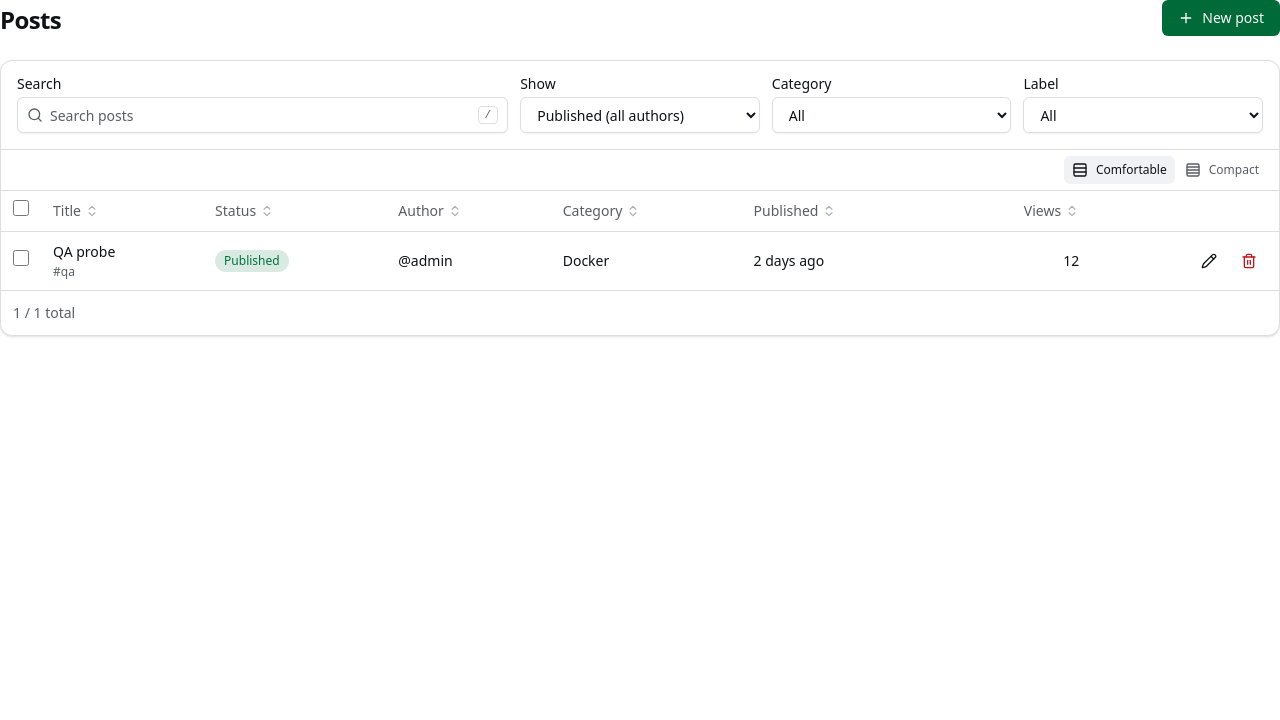
Test: PostsPage › deletes after confirmation
The image size is (1280, 720).
Click the button named "Delete: QA probe". click: x=1249, y=260
box: x1=1231 y1=242 x2=1267 y2=278
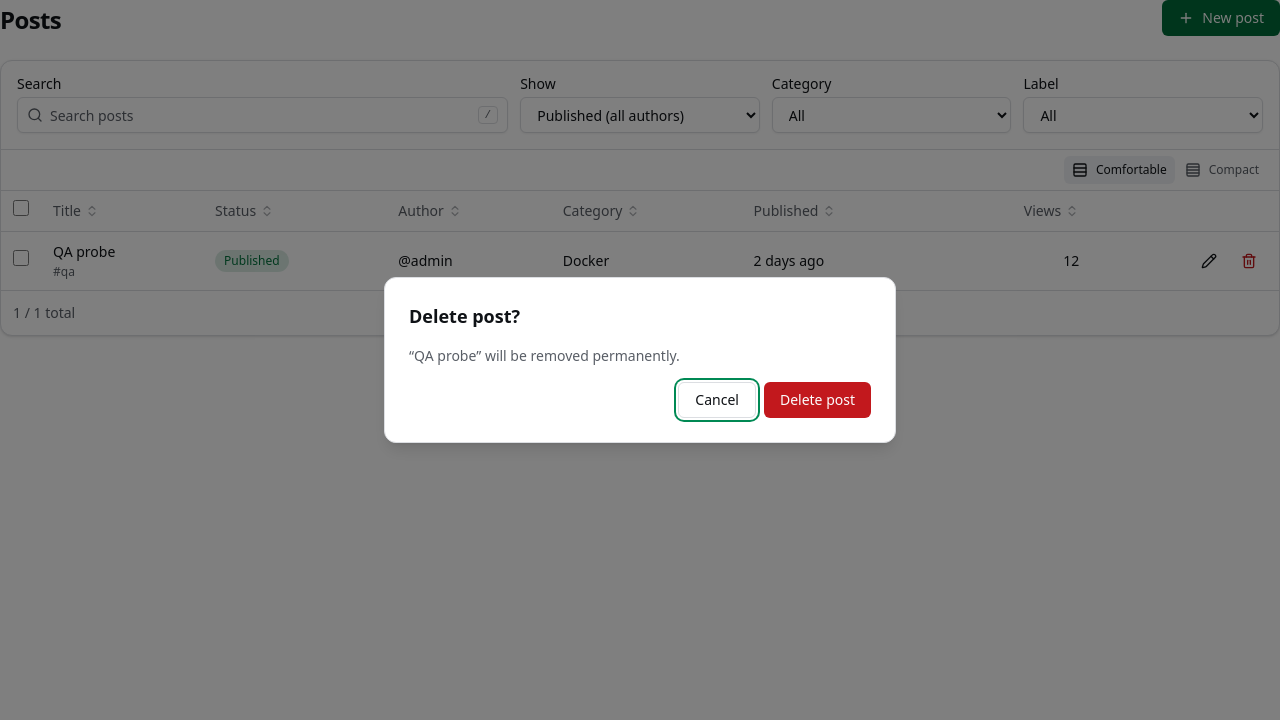
Check: the text "“QA probe” will be removed permanently." is shown, box x1=409 y1=346 x2=680 y2=365
Click the button "Delete post". click: x=817, y=400
box: x1=764 y1=382 x2=871 y2=418
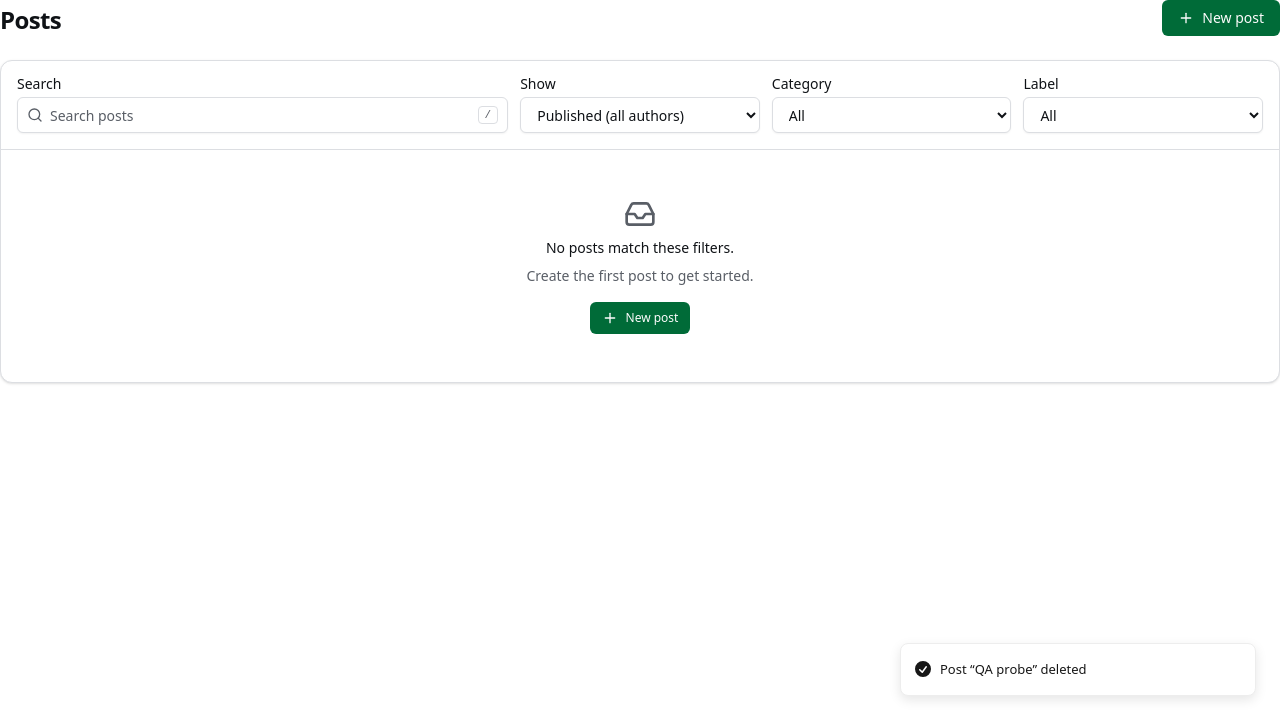
Check: the text "No posts match these filters." is shown, box x1=546 y1=238 x2=734 y2=258
